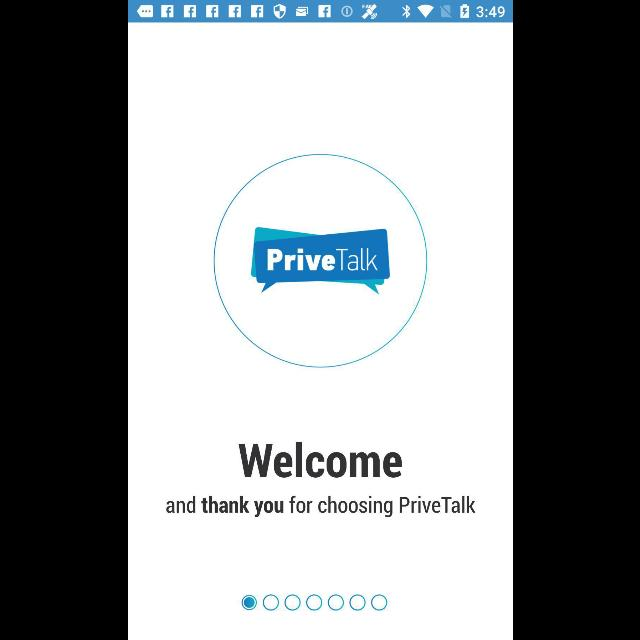image: (212, 154, 428, 368)
pageindicator: (240, 594, 388, 612)
text: (165, 496, 475, 518), (238, 441, 402, 479)
uppertaskbar: (128, 1, 512, 23)
